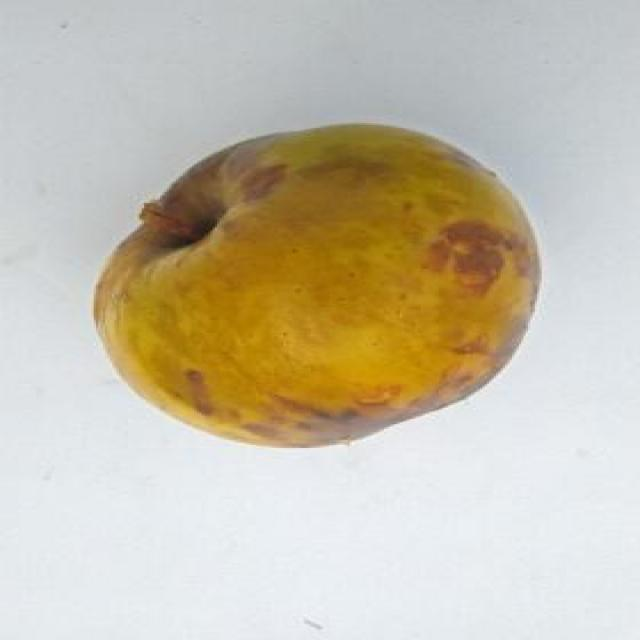Rotten: (92, 118, 544, 445)
